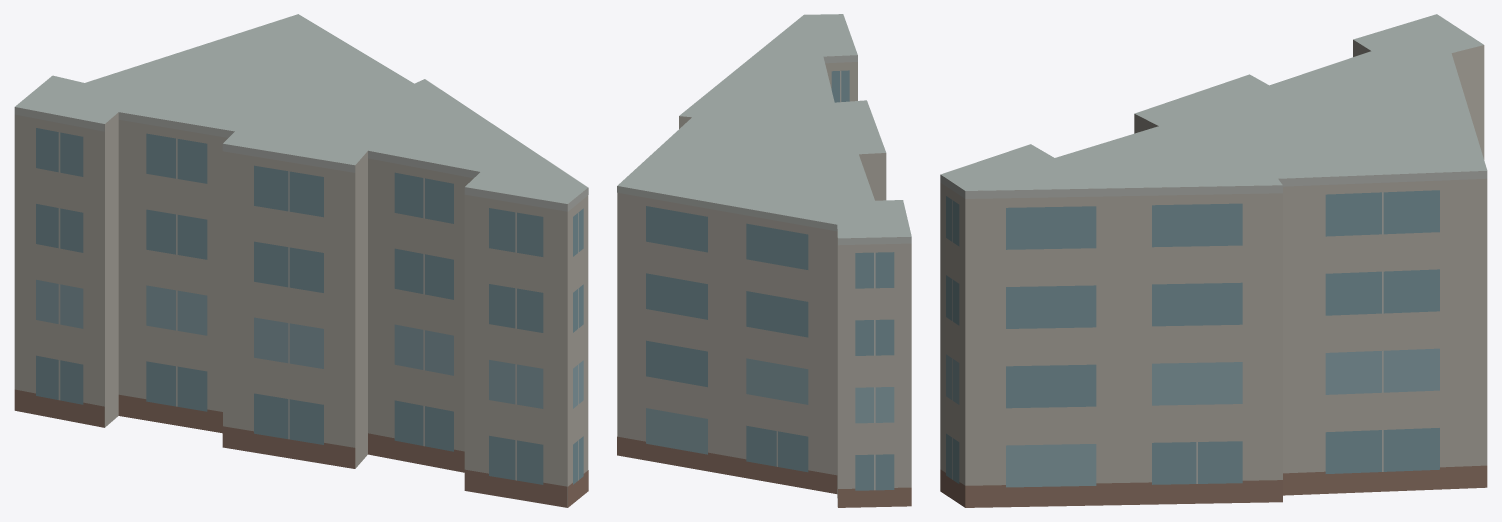
The model's file is survey-upis-32757483.glb.
3 views of the same model, side by side, from view 1: azimuth 30°, elevation 25°; view 2: azimuth 150°, elevation 25°; view 3: azimuth 270°, elevation 25° (orthographic). The views are drawn at different scales.
Parts seen in each view (by area): view 1: survey-upis-32757483.tmp; view 2: survey-upis-32757483.tmp; view 3: survey-upis-32757483.tmp.
Part boxes in pixels (box(x1,y1,x2,y2)): survey-upis-32757483.tmp: box(14, 14, 588, 507); survey-upis-32757483.tmp: box(617, 14, 911, 507); survey-upis-32757483.tmp: box(940, 14, 1487, 507).
Bounding box in the file's own units: 11.62 × 9.69 × 15.17.
